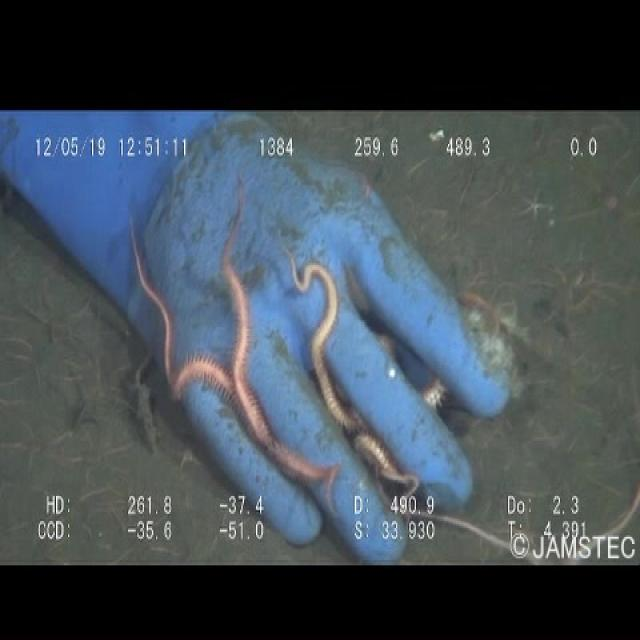plastic: (1, 112, 518, 558)
